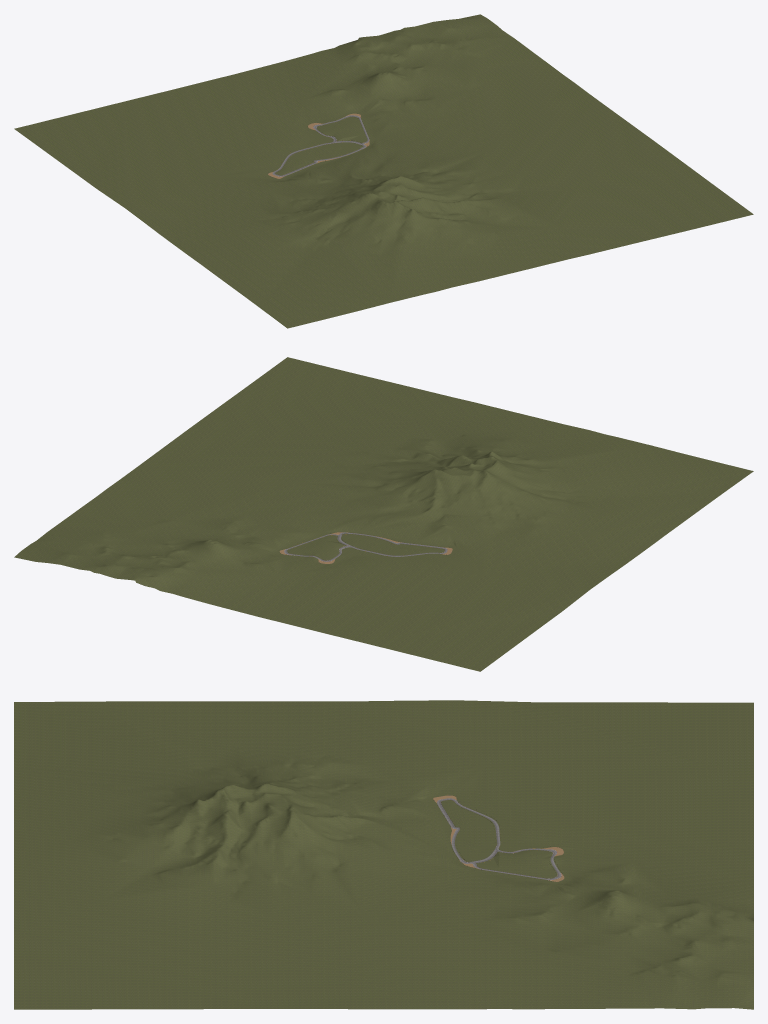
File: test_race_track_v1.FBX
The picture shows the model from 3 angles, top to bottom: view 1: azimuth 30°, elevation 25°; view 2: azimuth 150°, elevation 25°; view 3: azimuth 270°, elevation 25°; orthographic projection. The views are drawn at different scales.
Parts seen in each view (by area): view 1: terrain, track; view 2: terrain, track; view 3: terrain, track.
Part boxes in pixels (bbox=[...]): terrain: bbox=[14, 14, 753, 328]; track: bbox=[272, 115, 369, 176]; terrain: bbox=[14, 357, 753, 671]; track: bbox=[284, 532, 447, 561]; terrain: bbox=[14, 700, 753, 1009]; track: bbox=[437, 798, 561, 879].
Bounding box in the file's own units: 469062 × 25333 × 476450.
Materials: 5 (5 with a texture image).
